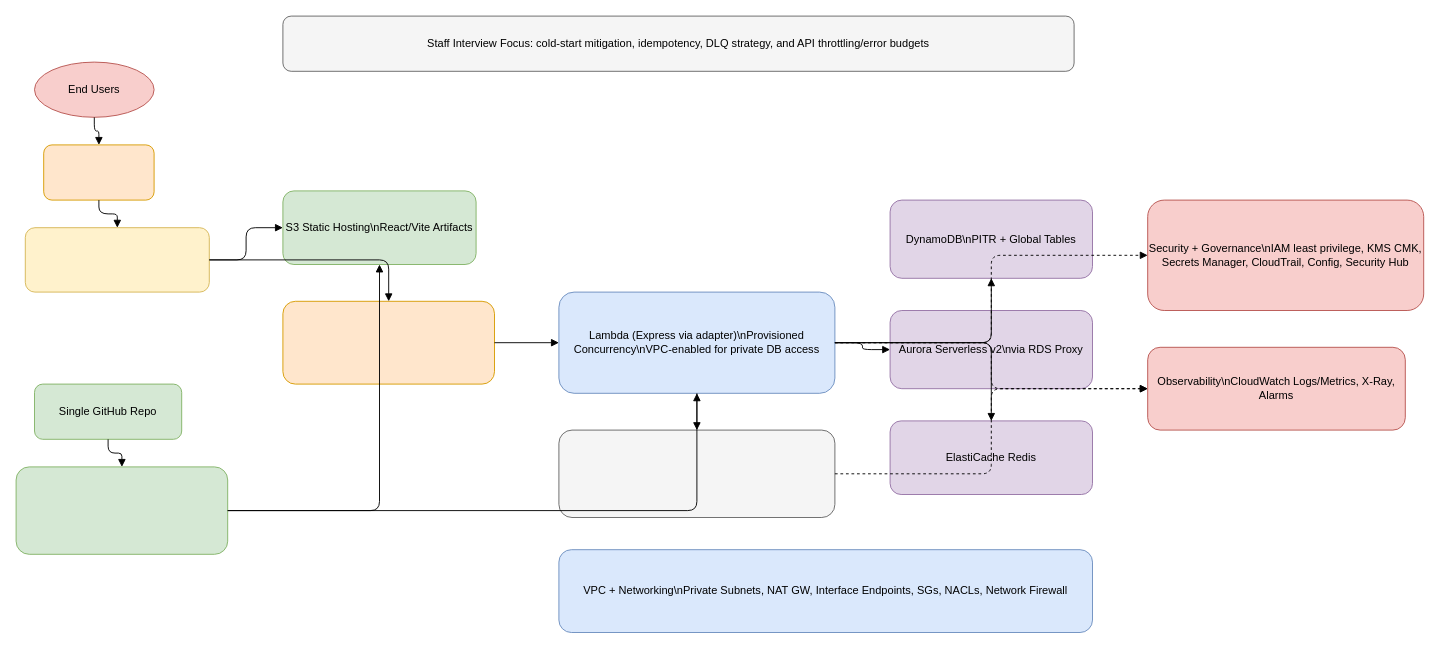
This 1440x649 diagram has some shape labels left out. Here are the shapes that lost their labels. From the top down, the box of each, then its label:
(43, 144, 154, 200): Route 53
(24, 227, 209, 292): CloudFront + WAF + Shield
(282, 300, 494, 384): API Gateway\nThrottling + Authorizers + WAF
(558, 429, 835, 518): Async Backbone\nSQS + SNS + EventBridge + Step Functions + DLQ
(15, 466, 228, 554): GitHub Actions\nBuild FE->S3\nDeploy BE->Lambda (SAM/CDK/Terraform)
